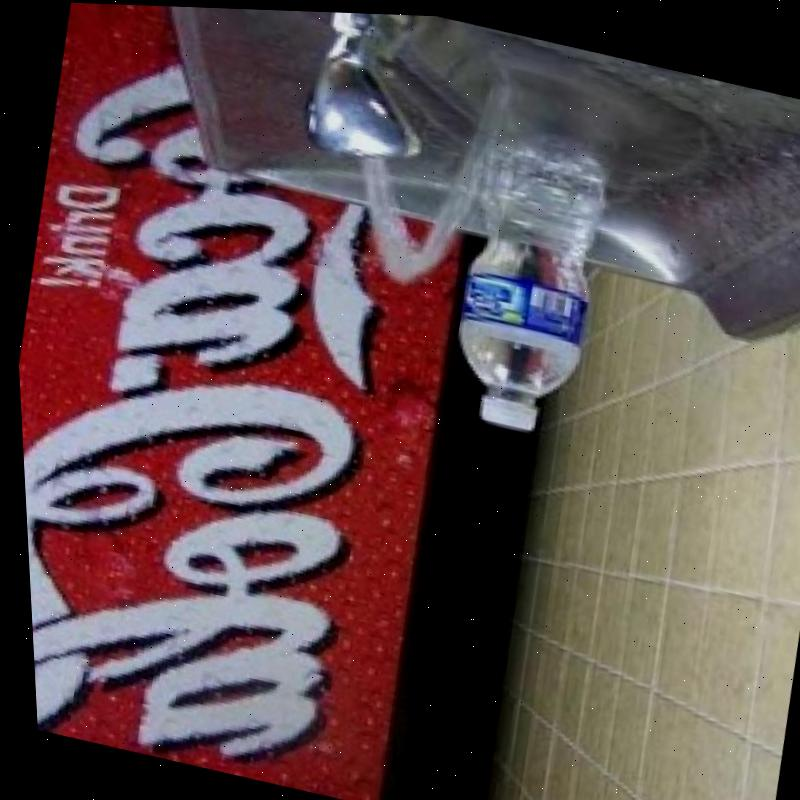botella: (432, 117, 625, 438)
